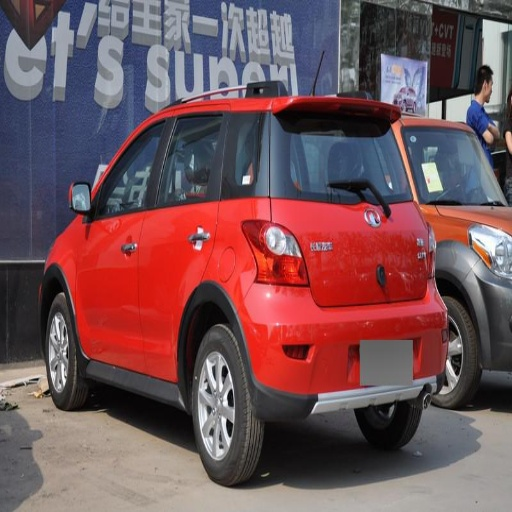back_bumper: (241, 285, 447, 420)
back_glass: (283, 113, 403, 201)
back_left_door: (140, 107, 236, 378)
trunk: (276, 203, 421, 305)
